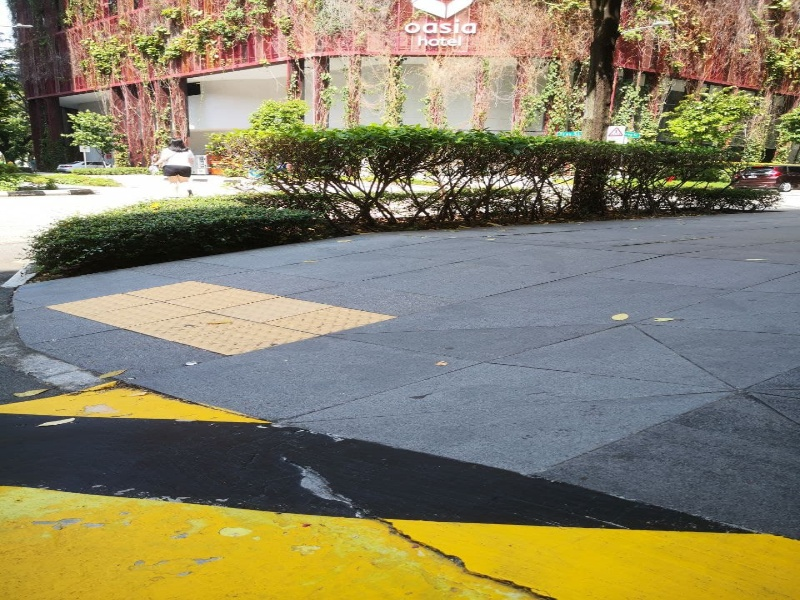slope: (22, 197, 493, 470)
